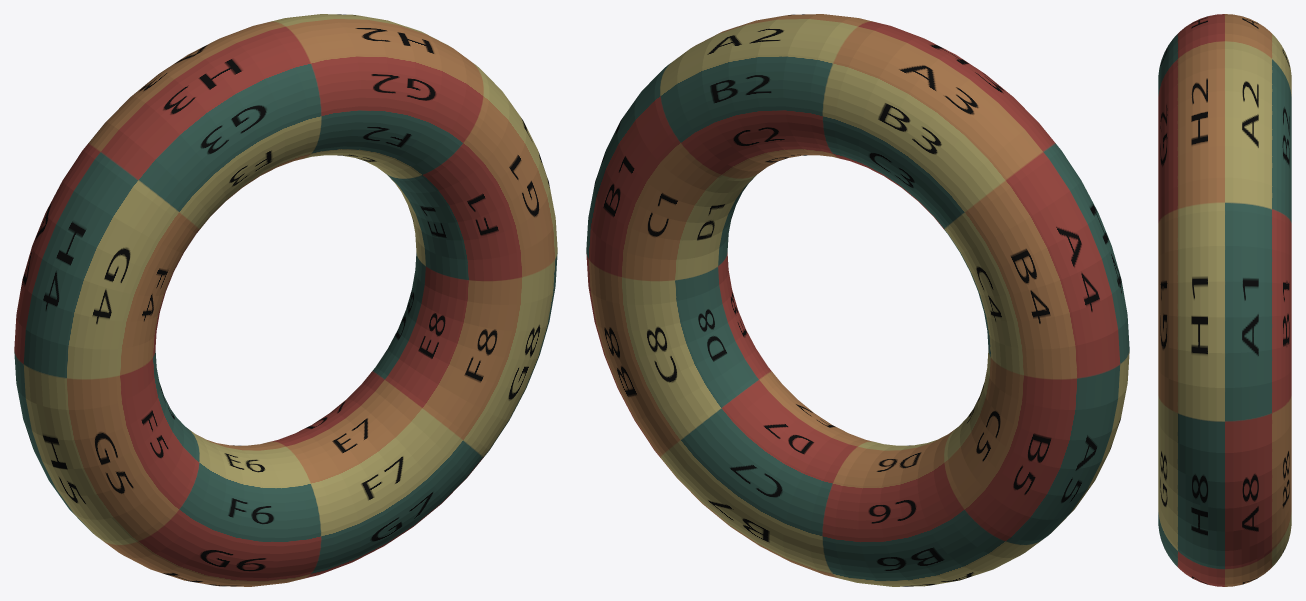
Rendered from texture_torus_R8_r10.glb.
3 renders of one model, left to right at view 1: azimuth 30°, elevation 25°; view 2: azimuth 150°, elevation 25°; view 3: azimuth 270°, elevation 25°, orthographic. The views are drawn at different scales.
Visible parts, largest first — view 1: world; view 2: world; view 3: world.
Part boxes in pixels (box(x1,y1,x2,y2)): world: box(14, 14, 557, 586); world: box(586, 14, 1129, 586); world: box(1158, 14, 1291, 586).
Size of the model in its own units: 20 by 19.96 by 4.66.
Materials: 1 (1 with a texture image).
